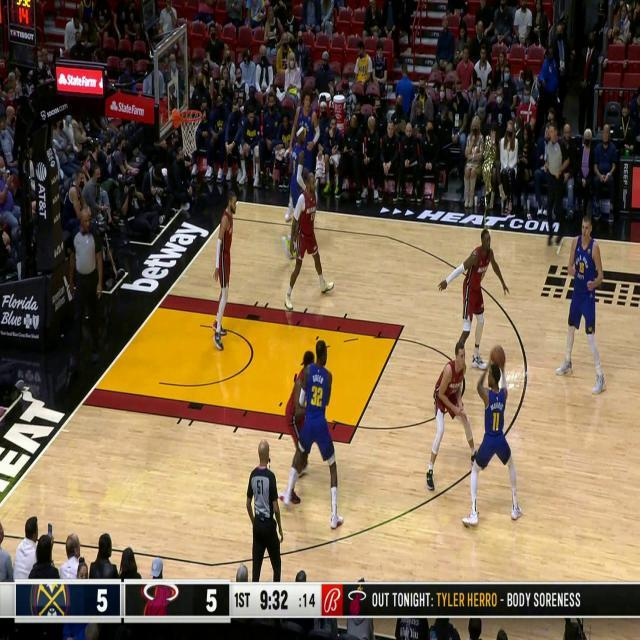rim: (490, 346, 505, 366)
